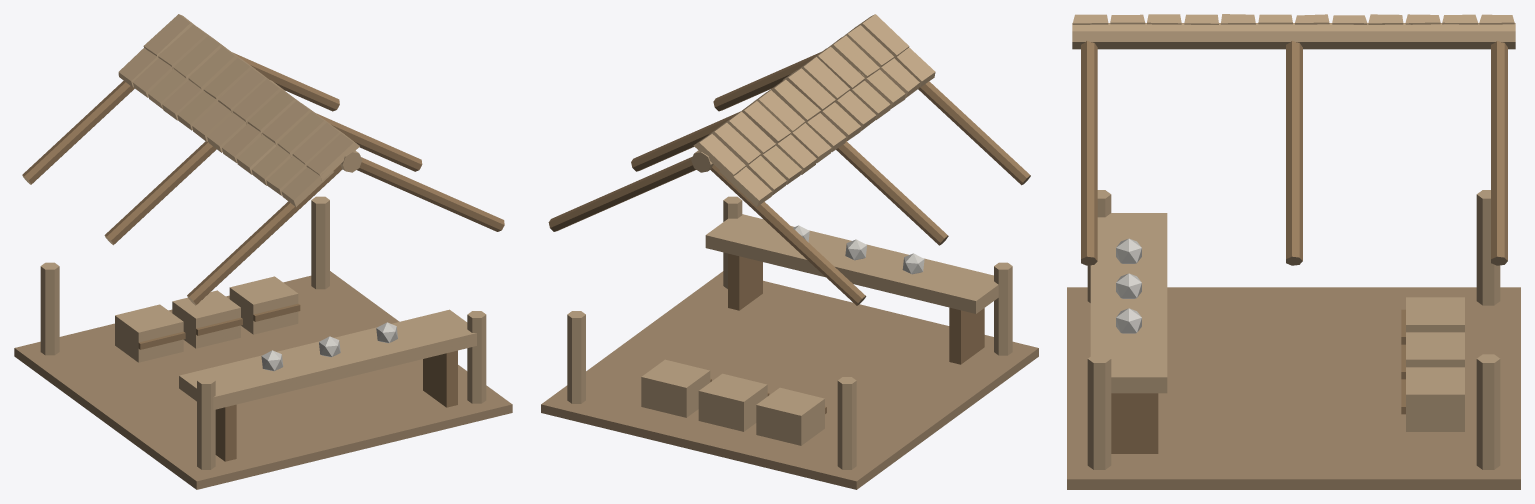
File: building_trading_post_half.glb
3 views of the same model, side by side, from view 1: azimuth 30°, elevation 25°; view 2: azimuth 150°, elevation 25°; view 3: azimuth 270°, elevation 25° (orthographic). The views are drawn at different scales.
Parts seen in each view (by area): view 1: building_trading_post_half; view 2: building_trading_post_half; view 3: building_trading_post_half.
Boxes of the visible parts, x1,y1,x2,y2 form: building_trading_post_half: (14,14,512,489); building_trading_post_half: (541,14,1038,489); building_trading_post_half: (1067,14,1520,489).
Size of the model in its own units: 3.85 by 3.57 by 3.85.
